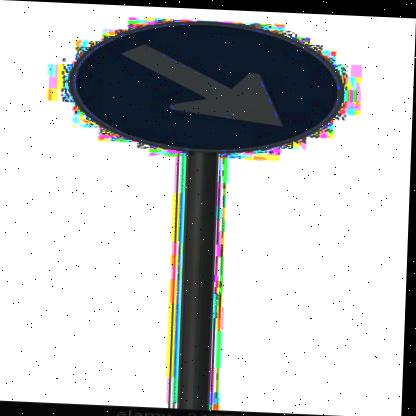Keep right: (66, 14, 342, 154)
